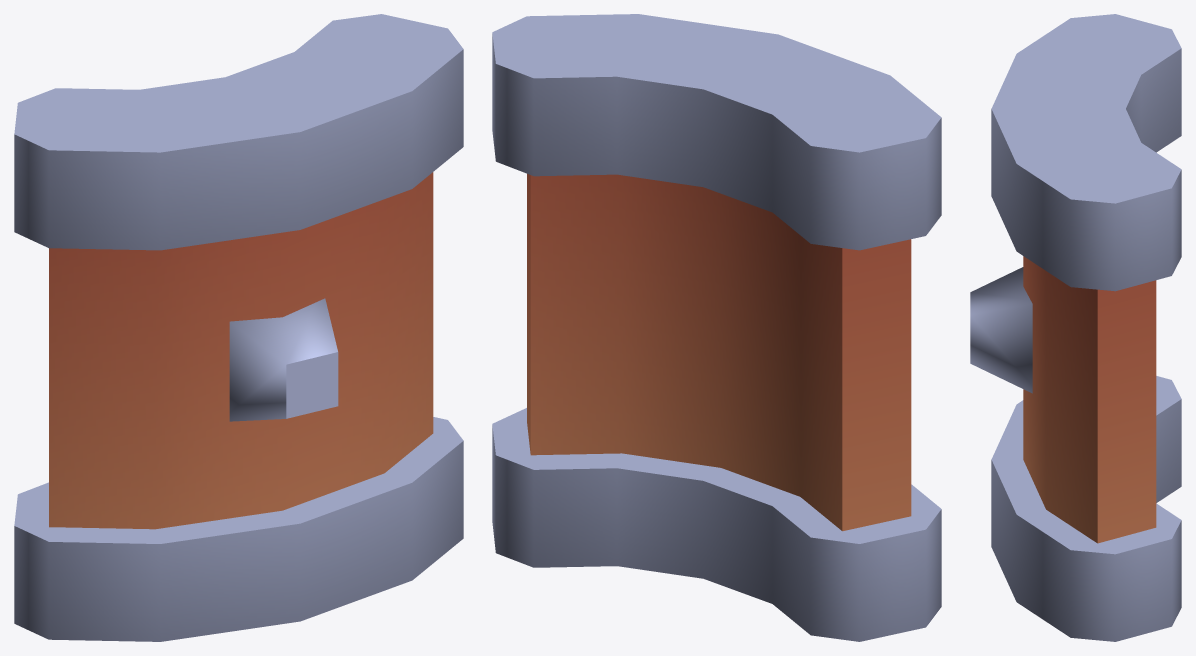
Rendered from shield-rectangle.glb.
3 views of the same model, side by side, from view 1: azimuth 30°, elevation 25°; view 2: azimuth 150°, elevation 25°; view 3: azimuth 270°, elevation 25° (orthographic). The views are drawn at different scales.
Parts seen in each view (by area): view 1: shield-rectangle; view 2: shield-rectangle; view 3: shield-rectangle.
Boxes of the visible parts, x1,y1,x2,y2 form: shield-rectangle: (14, 14, 463, 641); shield-rectangle: (492, 14, 941, 641); shield-rectangle: (970, 14, 1181, 641).
Bounding box in the file's own units: 0.2759 × 0.2975 × 0.13.
Materials: 1 (1 with a texture image).
